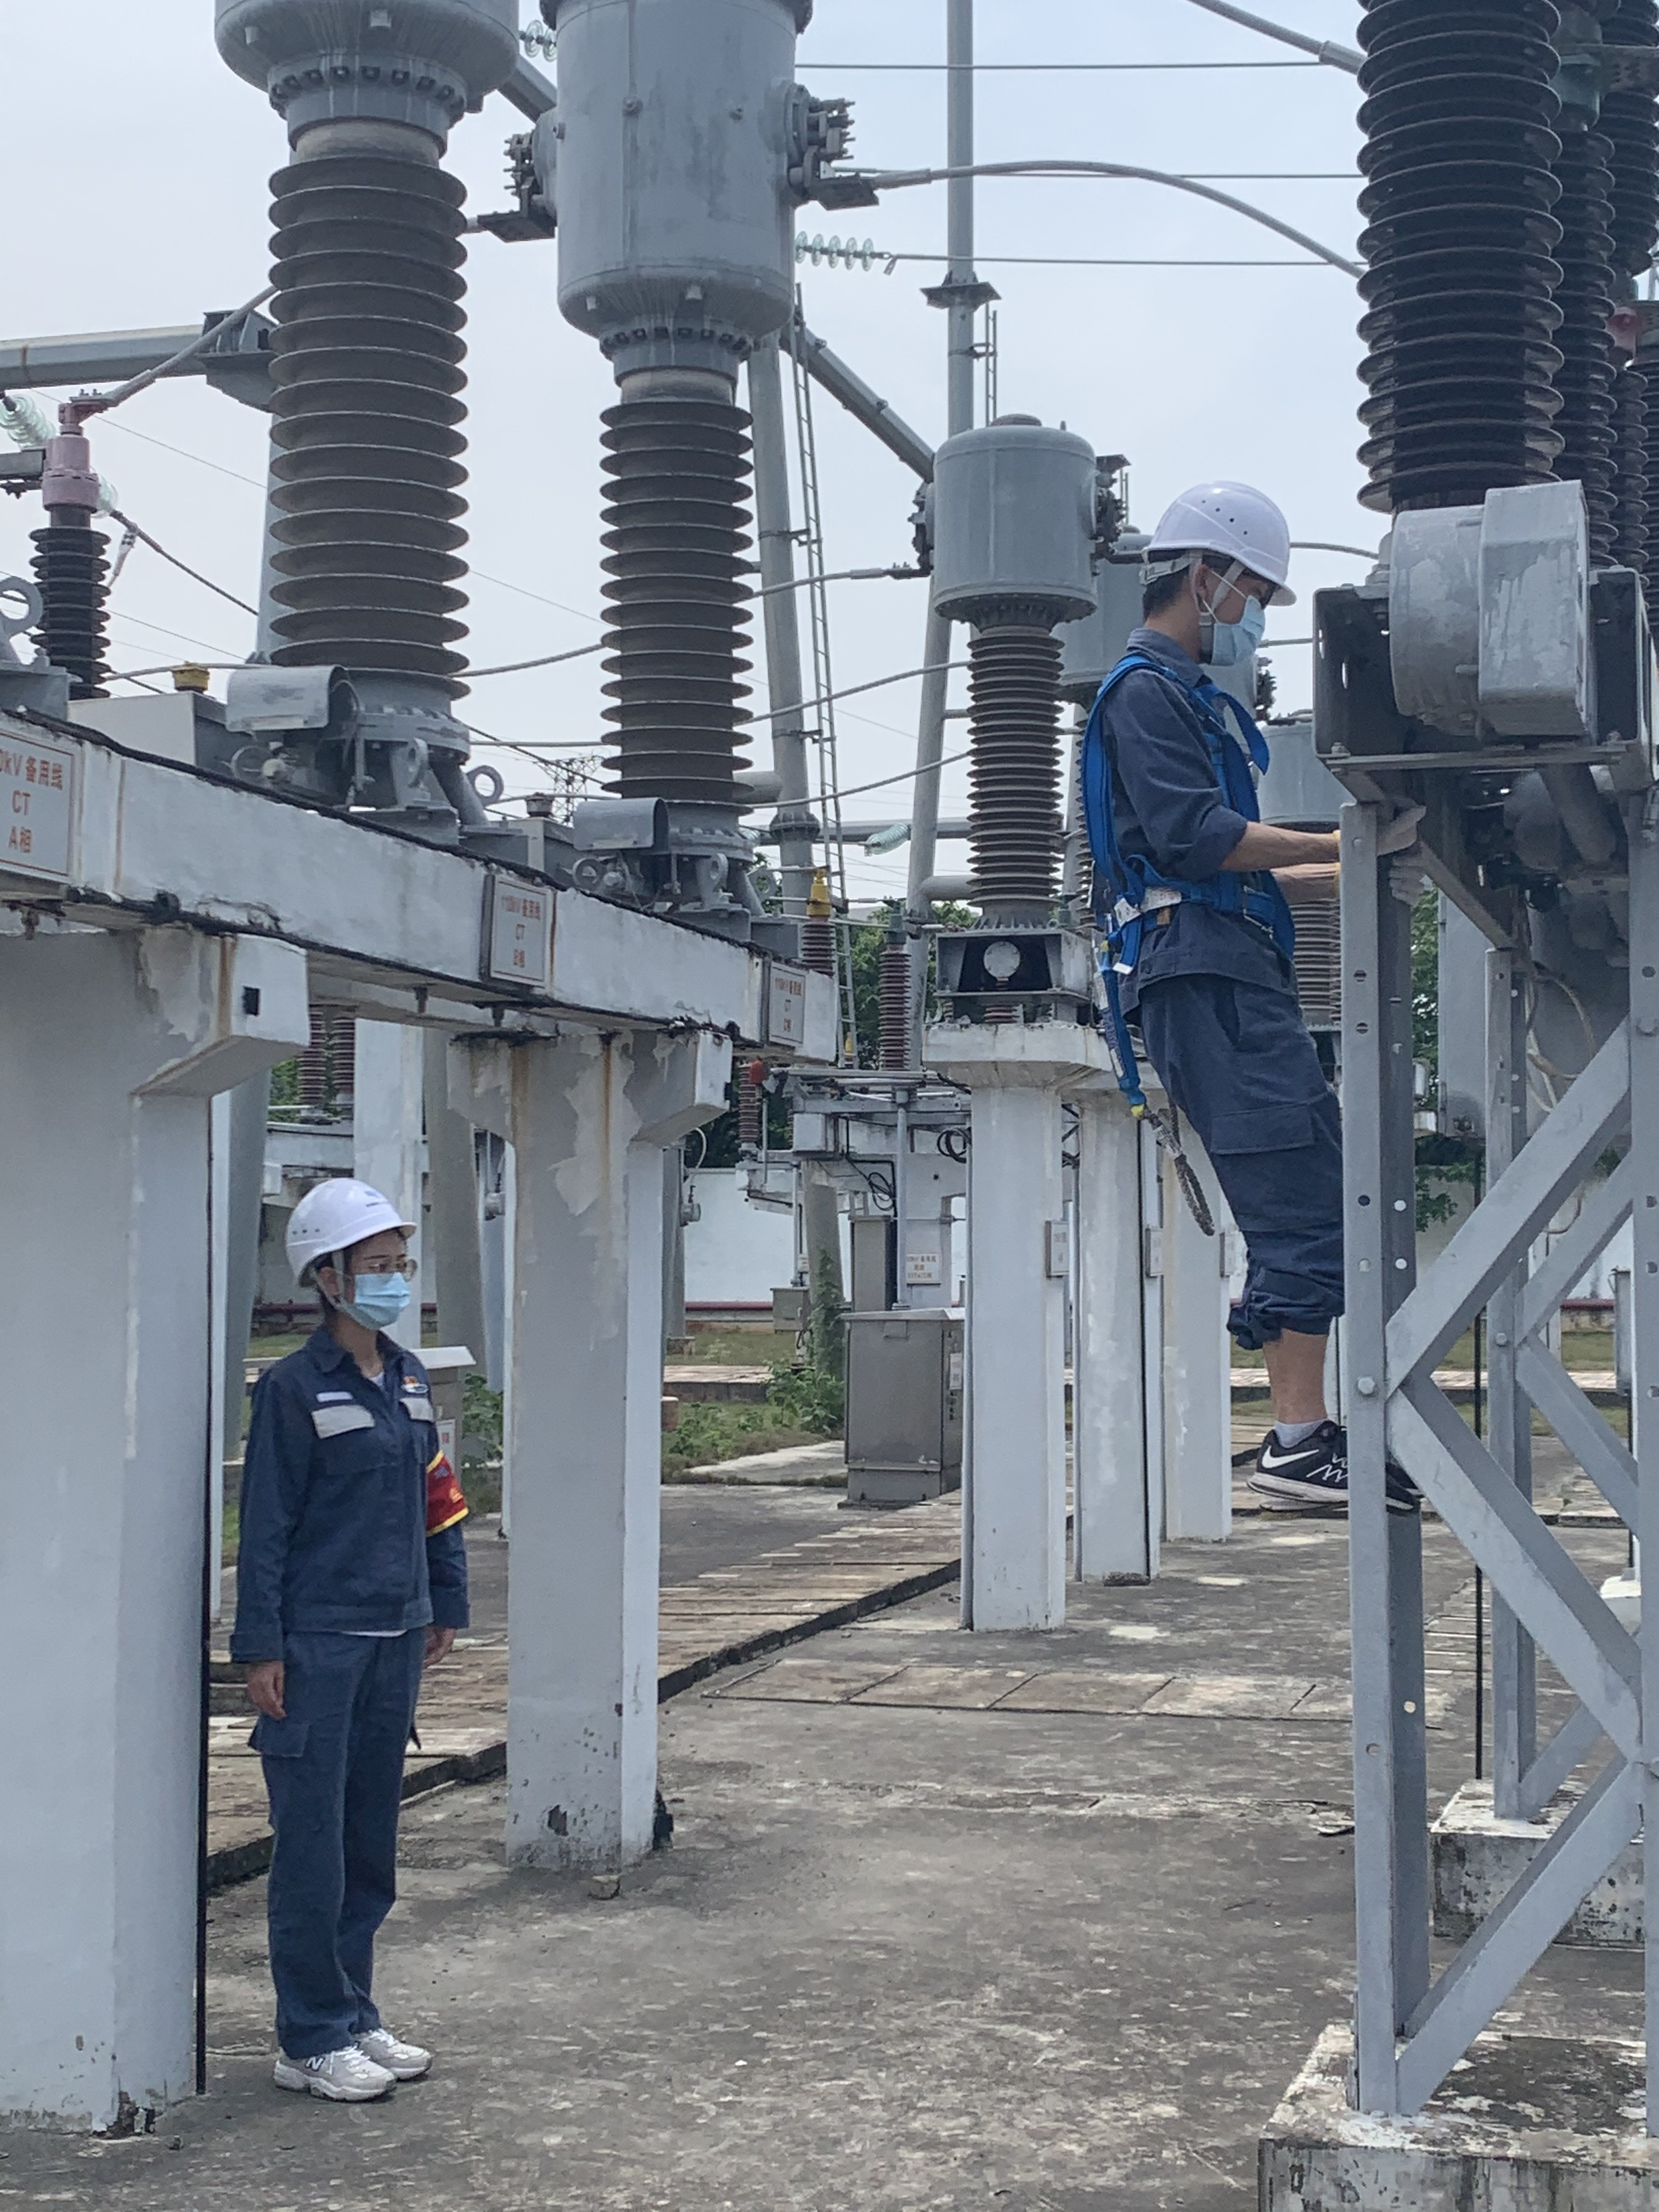downsuit: (1127, 998, 1364, 1366), (246, 1681, 416, 2033)
upsuit: (216, 1334, 483, 1662), (1061, 625, 1304, 953)
wrongbottom: (1241, 1270, 1342, 1449)
wrongtop: (1185, 805, 1342, 887)
